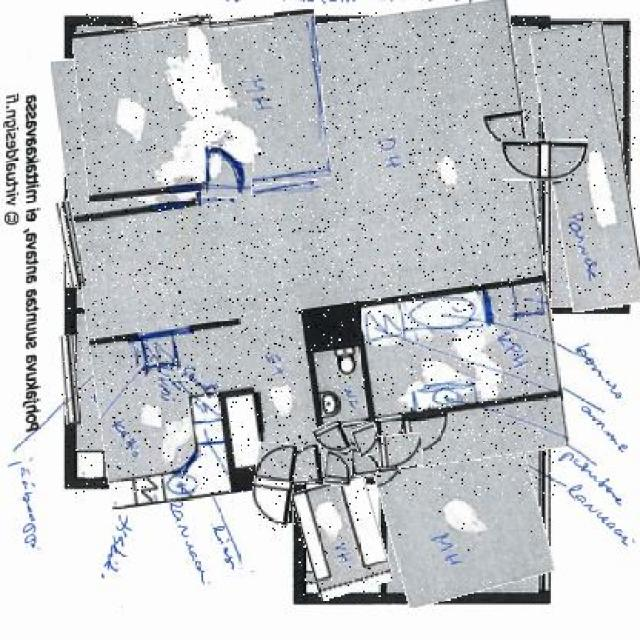door: (251, 442, 295, 530), (500, 138, 589, 180), (203, 146, 252, 197), (377, 432, 423, 468), (314, 422, 349, 456), (324, 452, 350, 486), (354, 423, 380, 455)
window: (60, 200, 82, 288), (62, 336, 78, 424), (209, 15, 274, 31), (136, 14, 198, 26)
zone: (67, 12, 556, 496), (75, 15, 328, 197), (379, 426, 546, 600), (540, 23, 635, 311), (351, 298, 546, 437), (299, 477, 386, 597), (298, 349, 349, 426)
